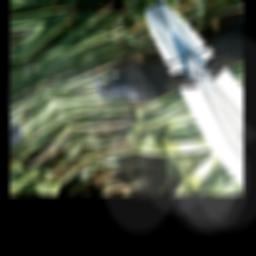Crow: (89, 43, 206, 123)
